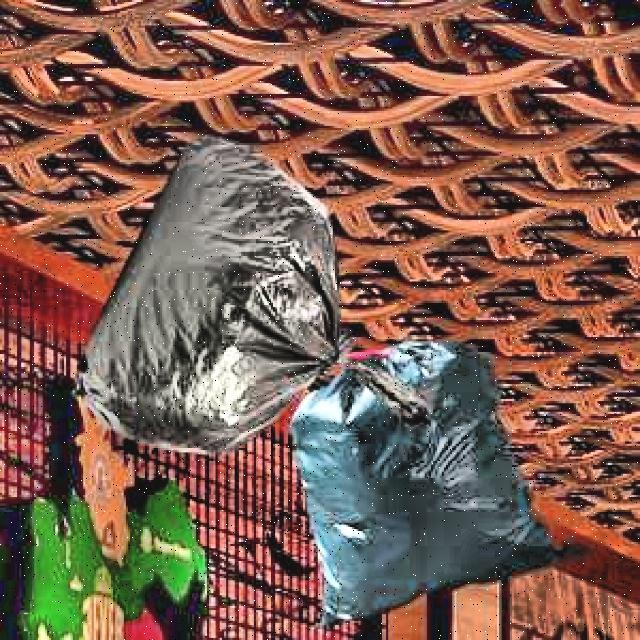Trashbag: (77, 133, 350, 462), (286, 343, 560, 632)
